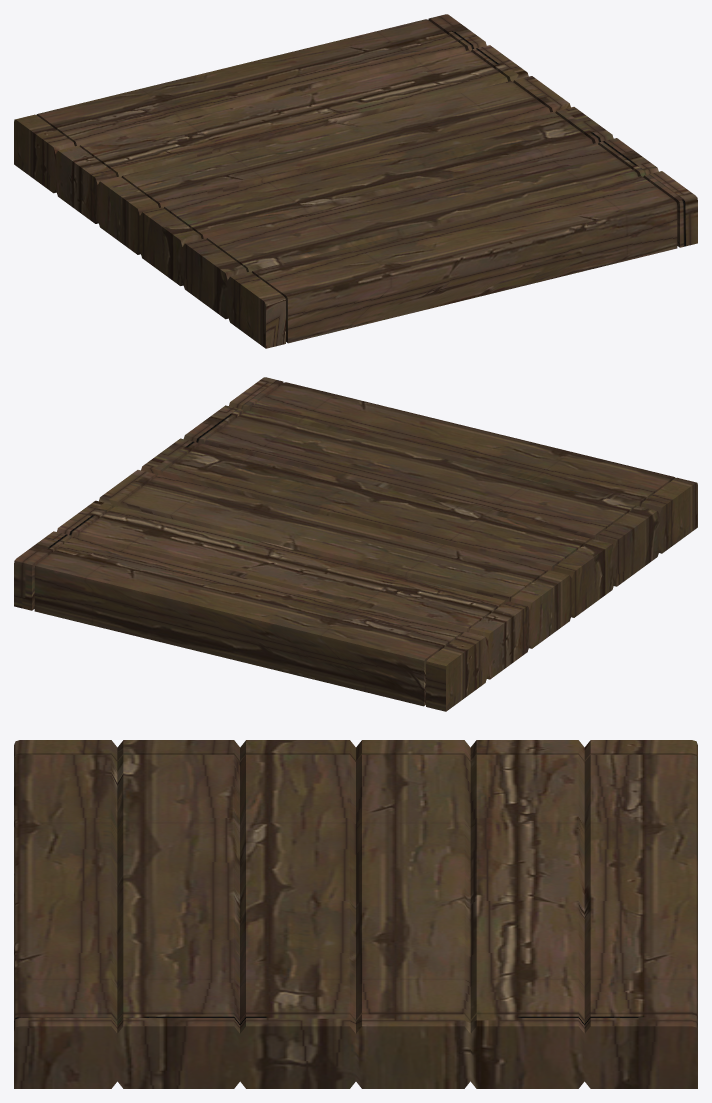
The model's file is trapDoor.fbx.
3 renders of one model, top to bottom at view 1: azimuth 30°, elevation 25°; view 2: azimuth 150°, elevation 25°; view 3: azimuth 270°, elevation 25°, orthographic. The views are drawn at different scales.
Visible parts, largest first — view 1: Floor_B, Object001; view 2: Floor_B, Object001; view 3: Floor_B, Object001.
Boxes of the visible parts, x1,y1,x2,y2 form: Floor_B: (36, 14, 697, 343); Object001: (14, 114, 285, 348); Floor_B: (14, 377, 675, 706); Object001: (426, 477, 697, 711); Floor_B: (14, 754, 697, 1088); Object001: (14, 740, 697, 761).
Bounding box in the file's own units: 25.2 × 25.45 × 2.57.
